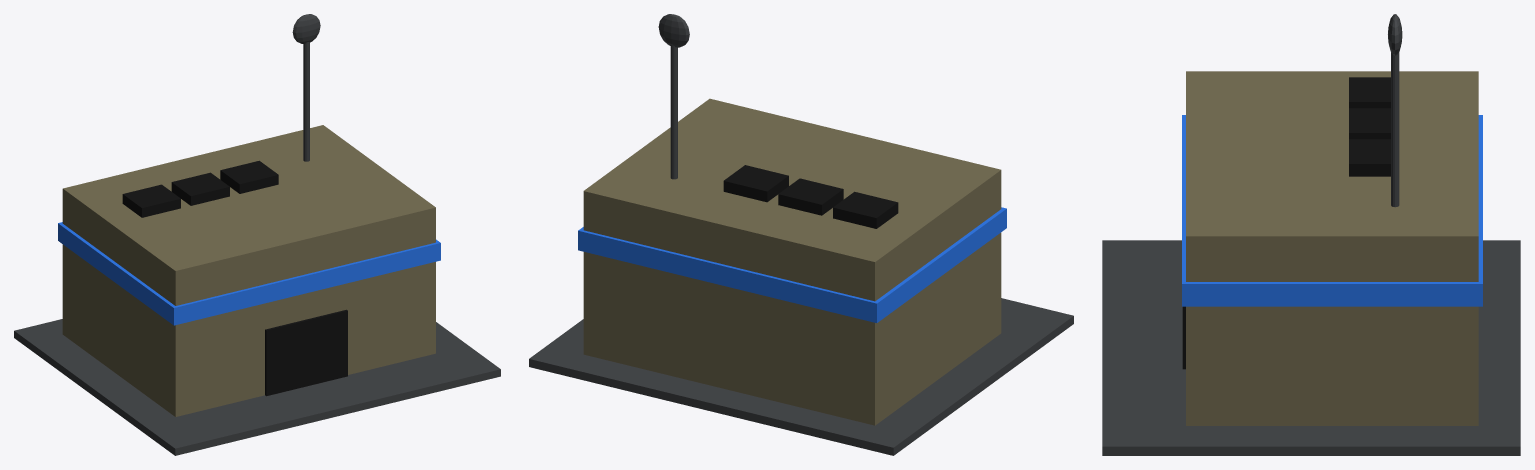
The model's file is us_command_hq.glb.
The picture shows the model from 3 angles, left to right: view 1: azimuth 30°, elevation 25°; view 2: azimuth 150°, elevation 25°; view 3: azimuth 270°, elevation 25°; orthographic projection. The views are drawn at different scales.
Visible parts, largest first — view 1: main, base, team_band, door, vent_0, vent_1, vent_2, mast, dish; view 2: main, base, team_band, vent_0, vent_1, vent_2, mast, dish; view 3: main, base, team_band, vent_2, mast, vent_0, vent_1, dish.
Part boxes in pixels (x1=…): main: x1=62, y1=125, x2=435, y2=416; base: x1=14, y1=319, x2=500, y2=455; team_band: x1=58, y1=222, x2=440, y2=325; door: x1=265, y1=309, x2=347, y2=396; vent_0: x1=122, y1=184, x2=180, y2=217; vent_1: x1=171, y1=172, x2=229, y2=205; vent_2: x1=220, y1=160, x2=278, y2=193; mast: x1=303, y1=42, x2=309, y2=161; dish: x1=292, y1=14, x2=320, y2=43; main: x1=583, y1=98, x2=1001, y2=425; base: x1=529, y1=298, x2=1073, y2=455; team_band: x1=578, y1=207, x2=1006, y2=322; vent_0: x1=833, y1=191, x2=898, y2=228; vent_1: x1=778, y1=178, x2=843, y2=215; vent_2: x1=723, y1=165, x2=788, y2=202; mast: x1=670, y1=45, x2=677, y2=179; dish: x1=658, y1=14, x2=689, y2=47; main: x1=1186, y1=71, x2=1478, y2=425; base: x1=1102, y1=240, x2=1520, y2=455; team_band: x1=1182, y1=115, x2=1482, y2=306; vent_2: x1=1349, y1=139, x2=1390, y2=176; mast: x1=1391, y1=52, x2=1399, y2=207; vent_0: x1=1349, y1=77, x2=1390, y2=108; vent_1: x1=1349, y1=108, x2=1390, y2=139; dish: x1=1388, y1=14, x2=1402, y2=55.
Size of the model in its own units: 14 by 12.3 by 12.
